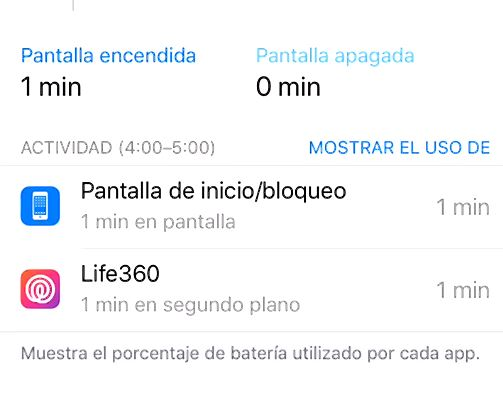activity: (13, 129, 227, 162)
app: (13, 174, 498, 236), (11, 257, 496, 319)
